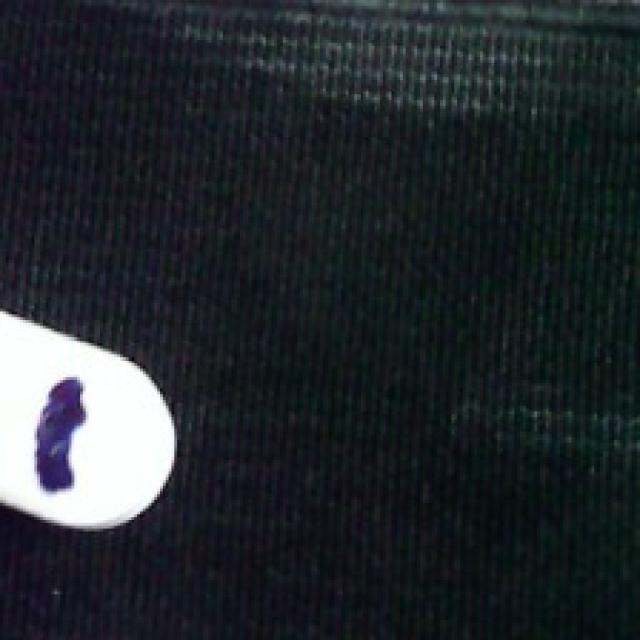defected: (0, 306, 186, 534)
